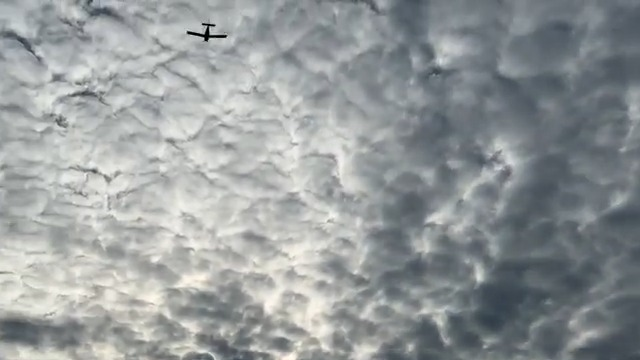not_drone: (182, 17, 231, 45)
